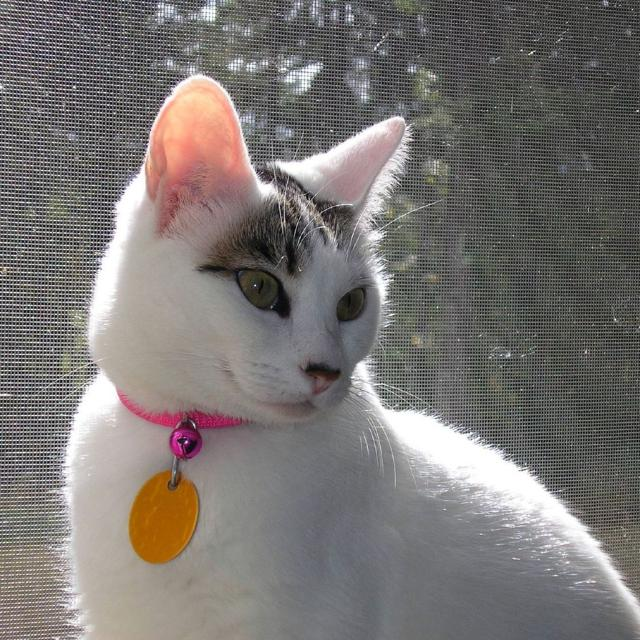Cat: (41, 68, 639, 639)
